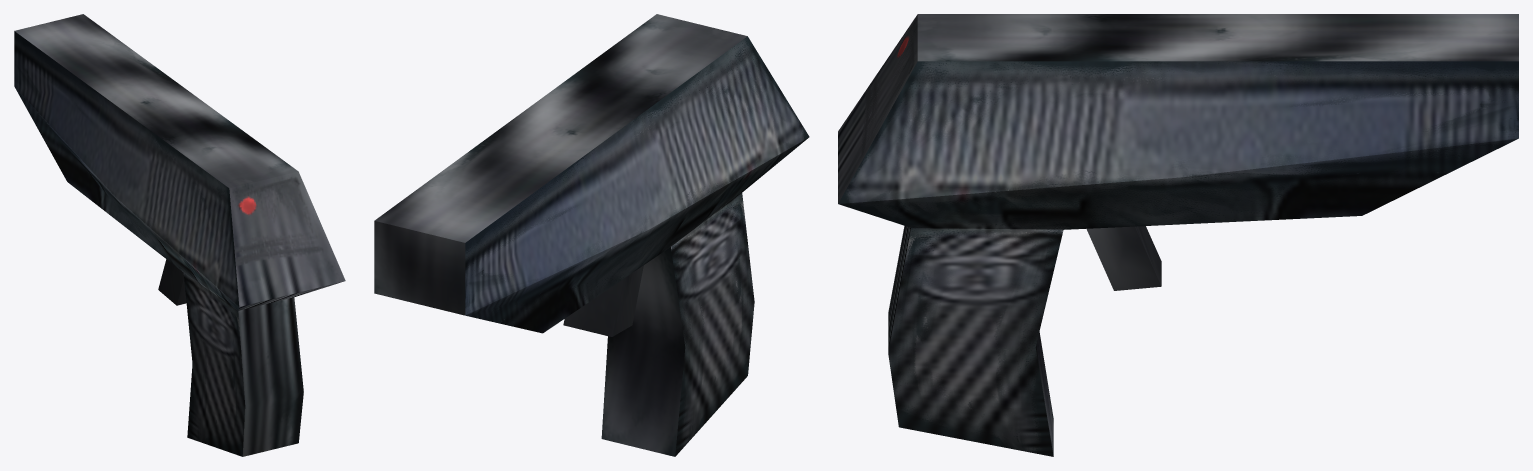
The model's file is gun.fbx.
3 views of the same model, side by side, from view 1: azimuth 30°, elevation 25°; view 2: azimuth 150°, elevation 25°; view 3: azimuth 270°, elevation 25° (orthographic). The views are drawn at different scales.
Parts seen in each view (by area): view 1: gun; view 2: gun; view 3: gun.
Boxes of the visible parts, box(x1,y1,x2,y2) form: gun: box(14, 14, 345, 456); gun: box(374, 14, 809, 456); gun: box(838, 14, 1518, 456).
Bounding box in the file's own units: 0.2403 × 0.6179 × 0.9527.
